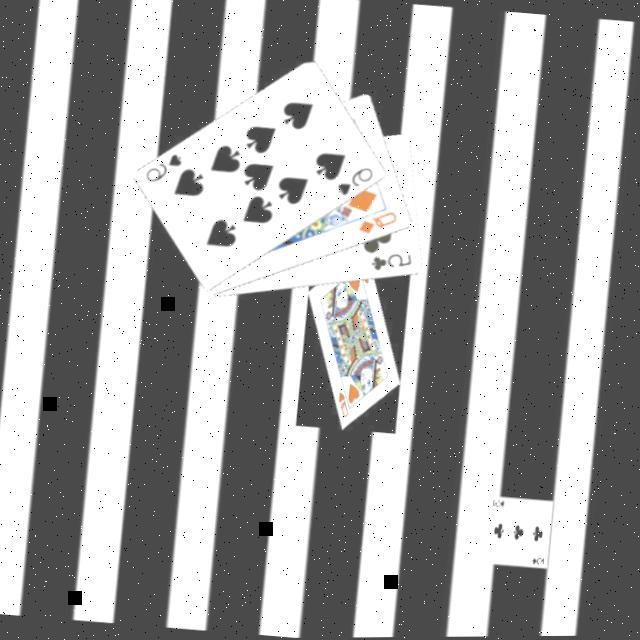5C: (368, 250, 416, 278)
9S: (142, 149, 187, 189), (334, 164, 378, 203)
QD: (356, 208, 402, 242)
